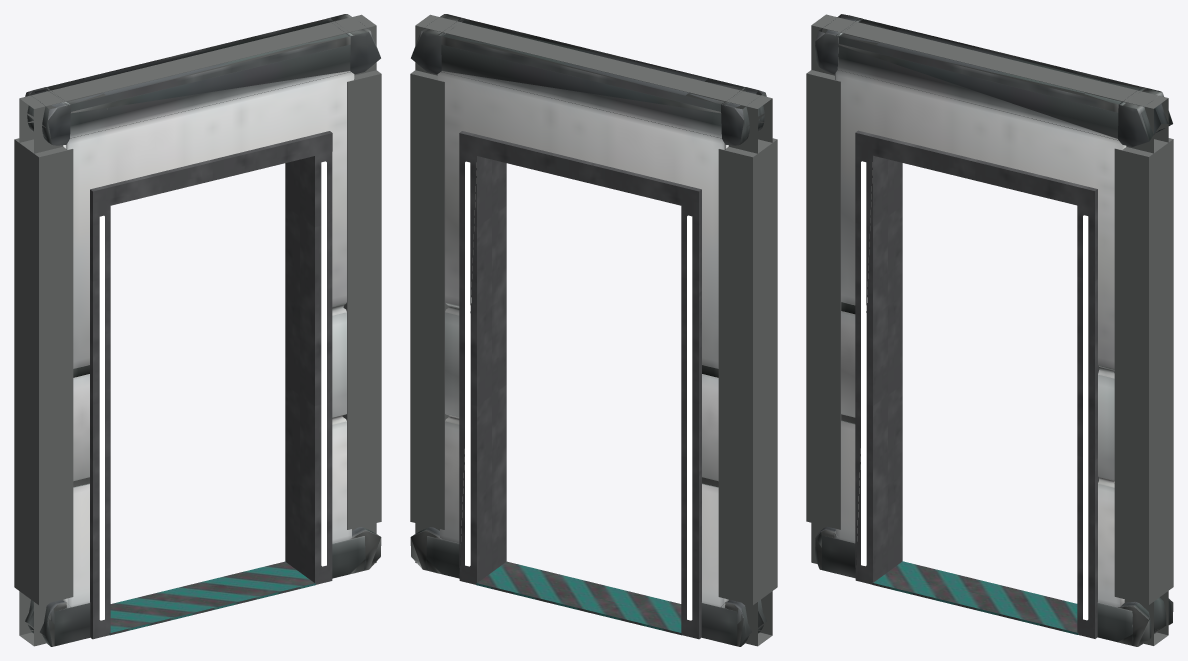
The model's file is wall-doorway.lod1.glb.
3 renders of one model, left to right at view 1: azimuth 30°, elevation 25°; view 2: azimuth 150°, elevation 25°; view 3: azimuth 330°, elevation 25°, orthographic.
Visible parts, largest first — view 1: object 1, DoorLining_gunmetal, DoorLining_stripes, DoorLining_glow; view 2: object 1, DoorLining_gunmetal, DoorLining_stripes, DoorLining_glow; view 3: object 1, DoorLining_gunmetal, DoorLining_stripes, DoorLining_glow.
Boxes of the visible parts, left/top/right/bottom form: object 1: left=14, top=14, right=381, bottom=646; DoorLining_gunmetal: left=90, top=131, right=332, bottom=639; DoorLining_stripes: left=109, top=561, right=315, bottom=635; DoorLining_glow: left=99, top=161, right=326, bottom=620; object 1: left=410, top=14, right=777, bottom=646; DoorLining_gunmetal: left=459, top=131, right=701, bottom=639; DoorLining_stripes: left=476, top=561, right=682, bottom=635; DoorLining_glow: left=465, top=161, right=692, bottom=620; object 1: left=806, top=14, right=1173, bottom=646; DoorLining_gunmetal: left=855, top=130, right=1099, bottom=638; DoorLining_stripes: left=872, top=561, right=1078, bottom=634; DoorLining_glow: left=861, top=161, right=1088, bottom=620.
Bounding box in the file's own units: 2 × 3 × 0.32.
Materials: 4 (3 with a texture image).
